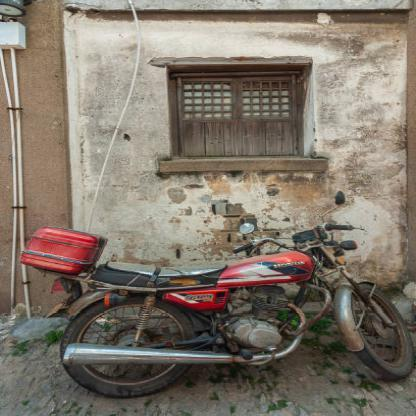Motorcycle: (21, 190, 415, 400)
